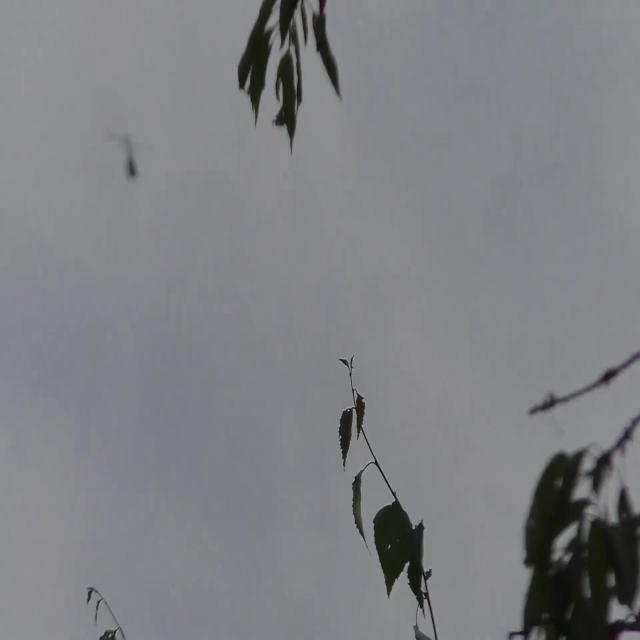CIV_HELO: (122, 131, 139, 183)
